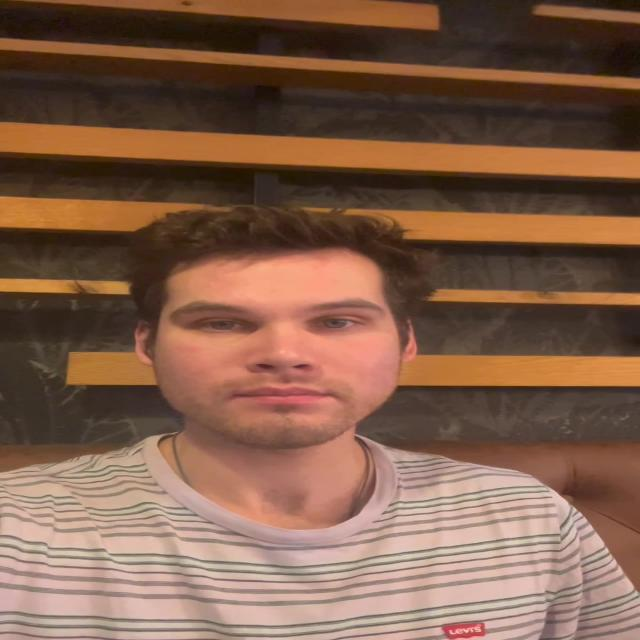earlobe: (134, 320, 155, 367), (400, 316, 418, 364)
